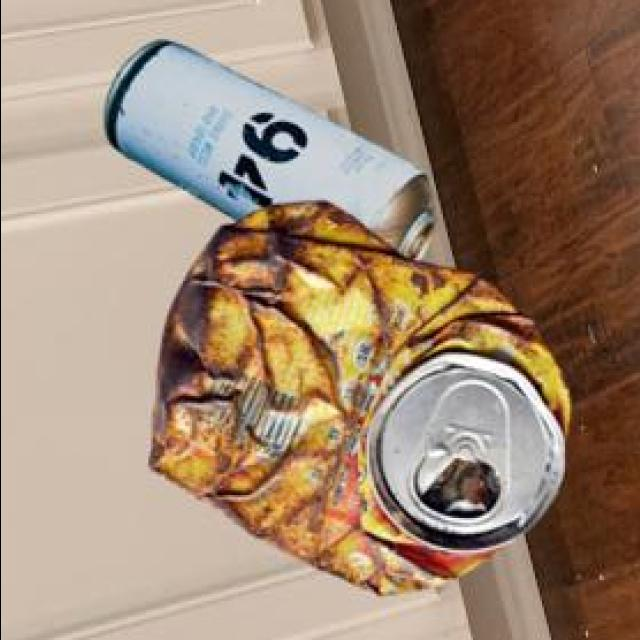logam: (146, 206, 565, 597), (100, 45, 432, 266)
